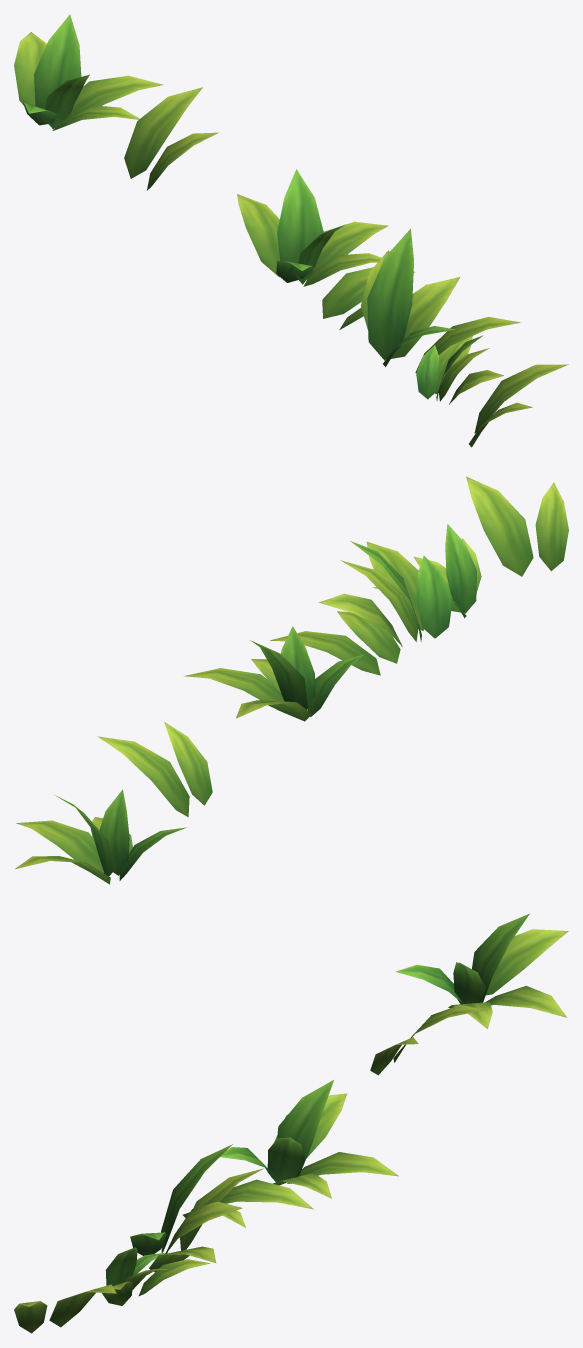
The model's file is scenes_town_plants01.FBX.
The picture shows the model from 3 angles, top to bottom: view 1: azimuth 30°, elevation 25°; view 2: azimuth 150°, elevation 25°; view 3: azimuth 330°, elevation 25°; orthographic projection.
Visible parts, largest first — view 1: scenes_town_plants01; view 2: scenes_town_plants01; view 3: scenes_town_plants01.
Boxes of the visible parts, box(x1,y1,x2,y2) form: scenes_town_plants01: box(14, 14, 568, 447); scenes_town_plants01: box(14, 476, 568, 884); scenes_town_plants01: box(14, 913, 568, 1333).
Bounding box in the file's own units: 155 × 93.09 × 759.
